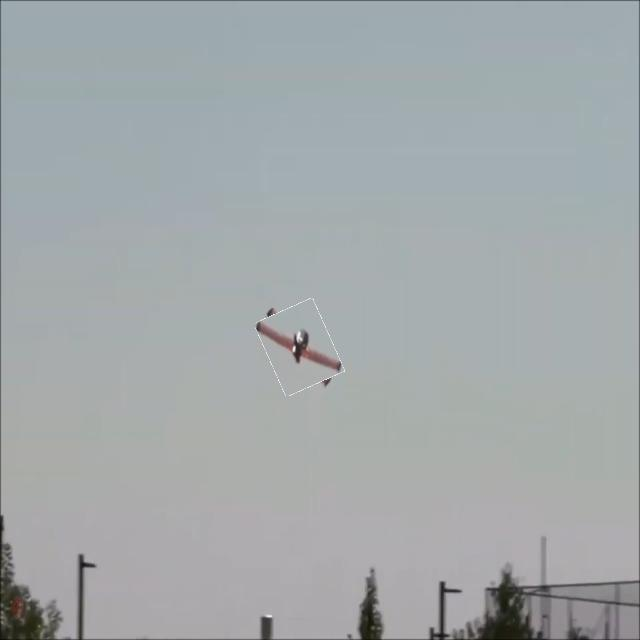UAV: (231, 310, 332, 416)
